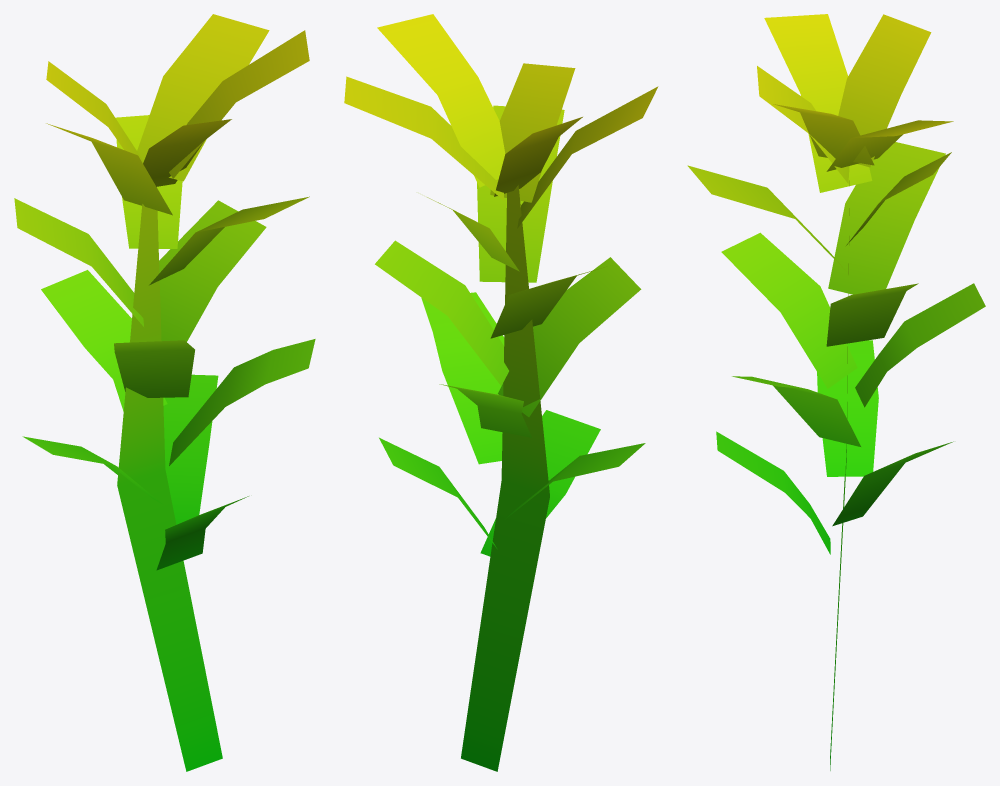
Rendered from Lingonberry_LOD3_Var11.fbx.
The picture shows the model from 3 angles, left to right: view 1: azimuth 30°, elevation 25°; view 2: azimuth 150°, elevation 25°; view 3: azimuth 270°, elevation 25°; orthographic projection.
Parts seen in each view (by area): view 1: _qid2_Var11_LOD3; view 2: _qid2_Var11_LOD3; view 3: _qid2_Var11_LOD3.
Part boxes in pixels (<box>): _qid2_Var11_LOD3: <box>14,14,315,771</box>; _qid2_Var11_LOD3: <box>344,14,658,771</box>; _qid2_Var11_LOD3: <box>687,14,985,770</box>.
Bounding box in the file's own units: 2.88 × 7.45 × 2.87.
